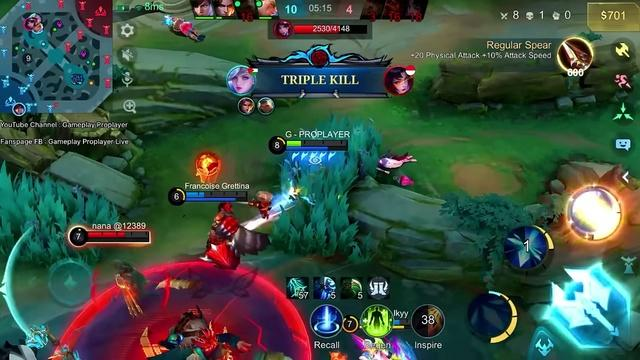Adc_Aliado: (31, 13, 41, 23)
Arbusto: (270, 114, 382, 262), (0, 162, 119, 265)
Exp_Aliado: (32, 24, 44, 35)
HP_Aliado: (186, 192, 248, 197)
HP_Enemigo: (87, 231, 150, 239)
HP_Heroe_Principal: (287, 140, 347, 145)
Mana: (88, 238, 150, 242), (286, 147, 346, 151), (187, 197, 247, 200)
Mid_Aliado: (12, 103, 27, 115)
Minimapa: (0, 0, 113, 115)
Natalia: (115, 262, 146, 316)
Nolan: (353, 335, 409, 359)
Roamer_Enemigo: (23, 18, 36, 31)
Skill3: (568, 187, 620, 240)
Tigreal: (202, 202, 268, 269), (248, 192, 271, 218)
